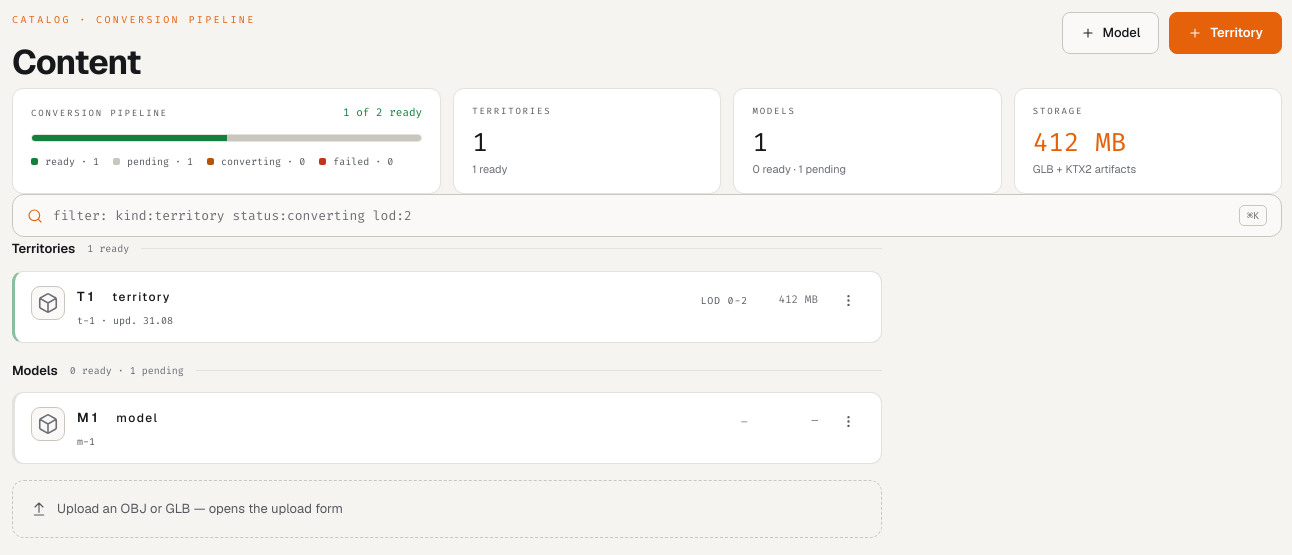
ContentScreen › offers the viewer for a row with nothing converted too, as the inspector does
This screenshot has width=1292, height=555.
What coordinates should you click on to do the following:
click the button named "Row actions for M 1"
I would click on:
 (848, 422)
Its box is [832,407,865,436].
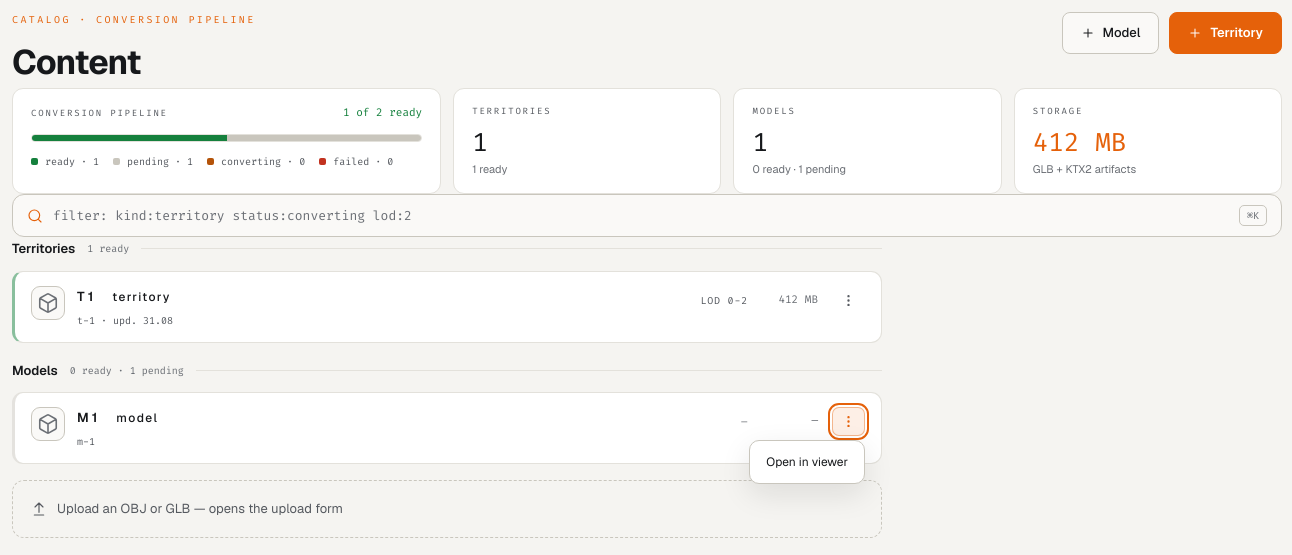
Expected: the menu item "Open in viewer" is enabled, [756,447,858,477]
